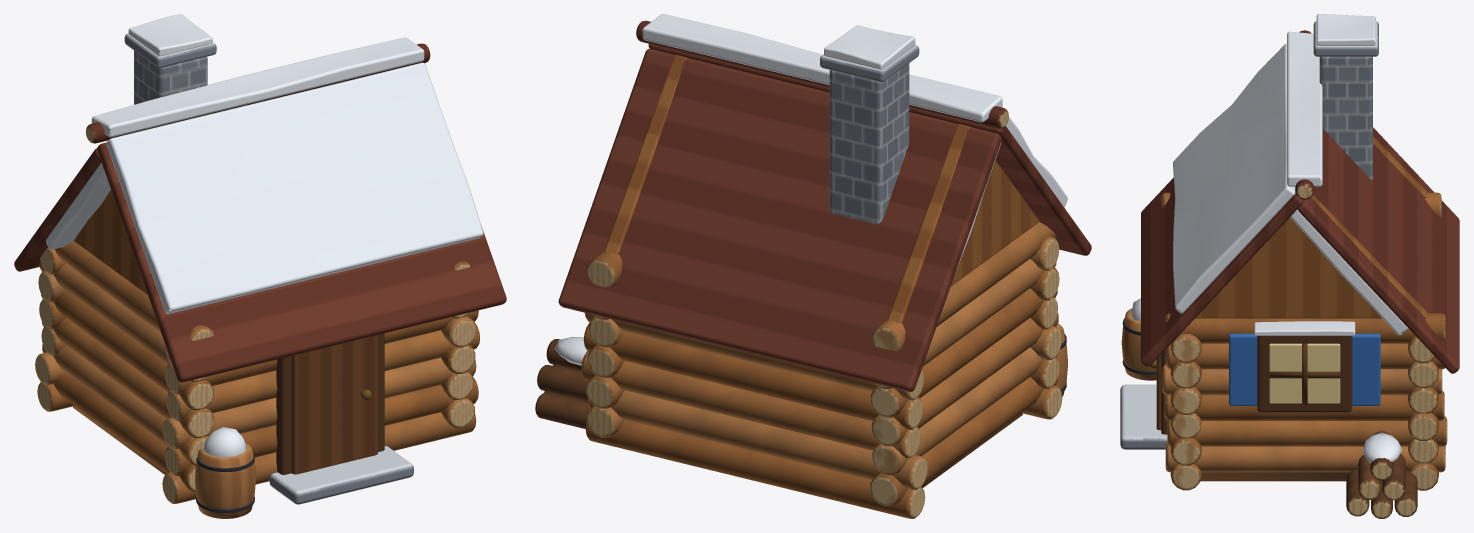
File: worker_hut.glb
3 views of the same model, side by side, from view 1: azimuth 30°, elevation 25°; view 2: azimuth 150°, elevation 25°; view 3: azimuth 270°, elevation 25° (orthographic). The views are drawn at different scales.
Visible parts, largest first — view 1: br_body; view 2: br_body; view 3: br_body.
Boxes of the visible parts, x1,y1,x2,y2 form: br_body: [14, 14, 506, 518]; br_body: [535, 14, 1091, 518]; br_body: [1120, 14, 1459, 518].
Size of the model in its own units: 3.5 by 3.42 by 2.86.
1 material, 1 textured.
